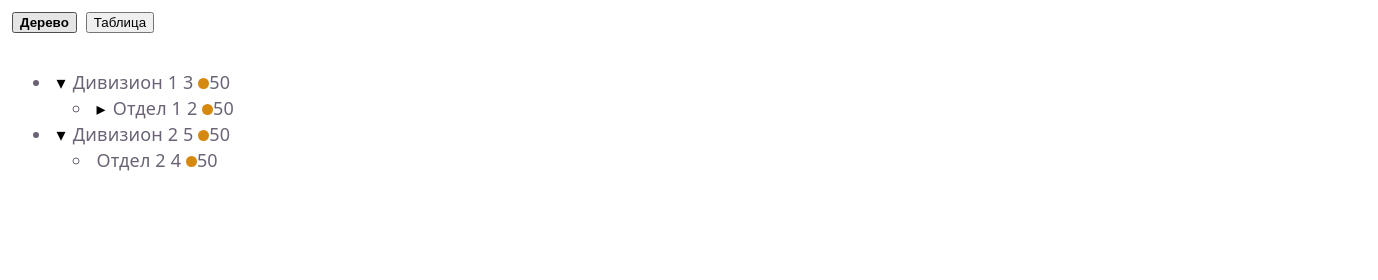
Scenario: OrgTreeScreen: выделение узла по клику на строку › на узком экране › AC-002-11: клик по строке при виде «Таблица» переключает на «Дерево», отмечает узел, раскрывает предков; в момент вызова scrollIntoView узел уже видим
This screenshot has width=1378, height=280.
Click the button "Таблица": (120, 22) [86, 12, 154, 33]
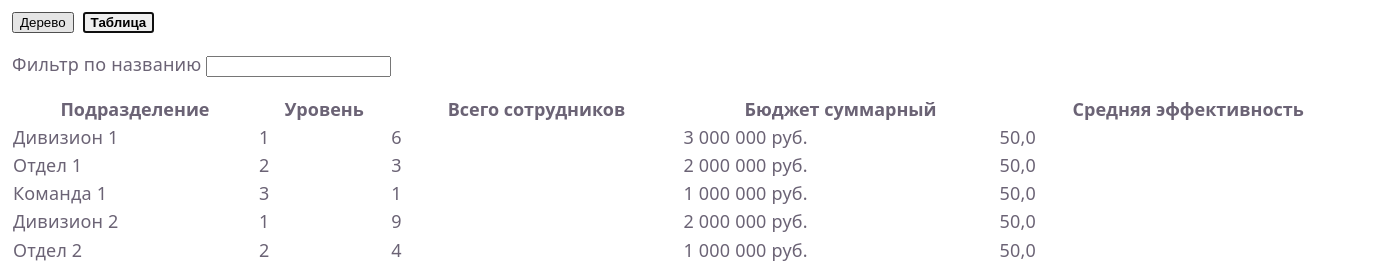
Now the element named "Таблица" is shown
Click the row "Команда 1 3 1 1 000 000 руб. 50,0": (695, 193) [12, 179, 1377, 208]
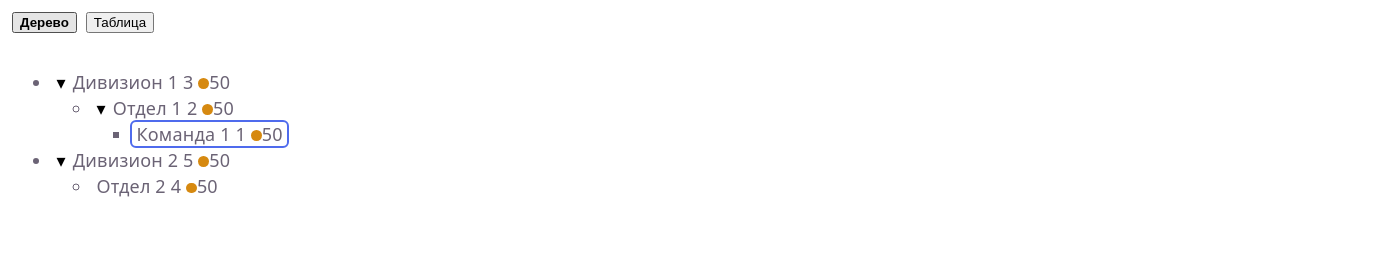
Now the element named "Дерево" is shown, box [56, 69, 283, 198]
